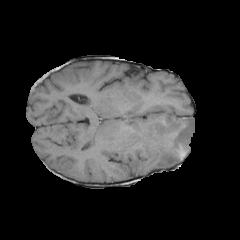glioma: (136, 112, 194, 169)
